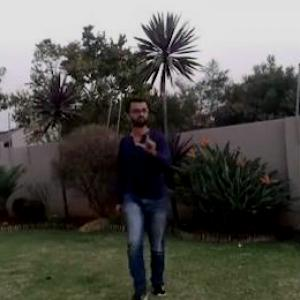land_hand: (132, 122, 165, 164)
